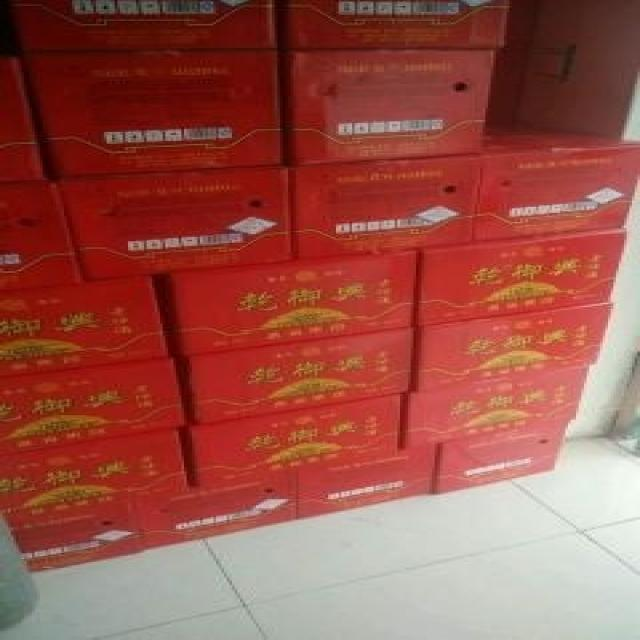box: (19, 49, 283, 177), (53, 166, 293, 282), (171, 249, 419, 355), (291, 49, 493, 165), (187, 328, 416, 426), (419, 228, 624, 327), (189, 396, 405, 489), (475, 120, 640, 241), (291, 154, 480, 259), (0, 357, 187, 457), (0, 429, 187, 528), (413, 303, 613, 390), (0, 276, 171, 376), (400, 366, 592, 451), (5, 0, 280, 52), (139, 472, 299, 549), (288, 0, 509, 48), (432, 420, 571, 495), (299, 445, 437, 519), (0, 180, 83, 294), (13, 505, 149, 573)
